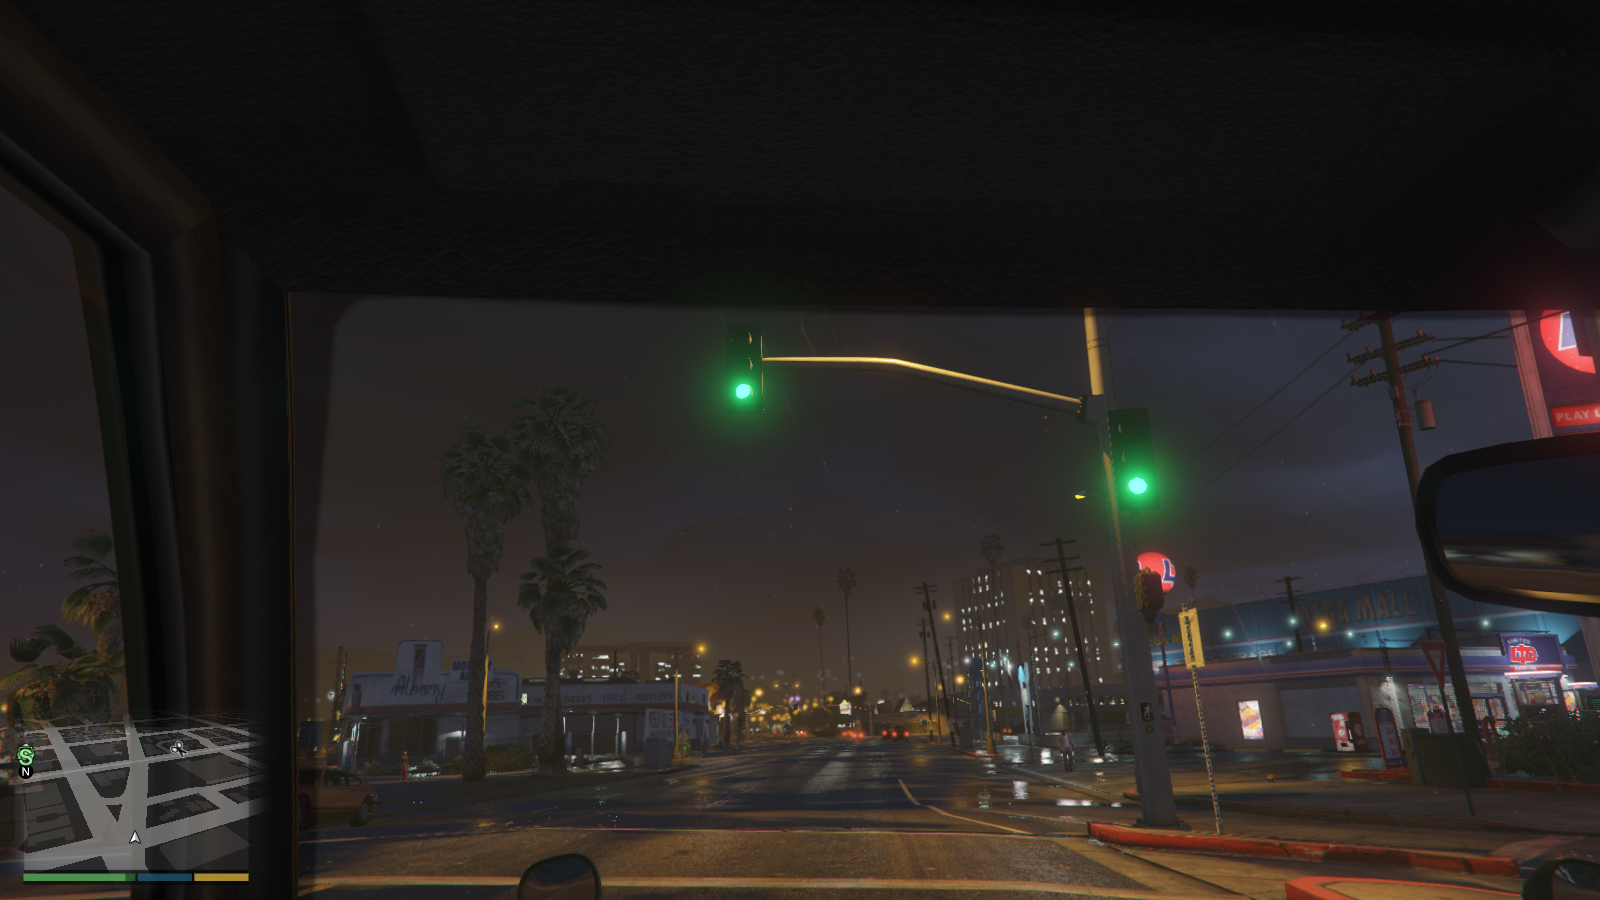green: (1111, 405, 1162, 509), (724, 326, 764, 411)
